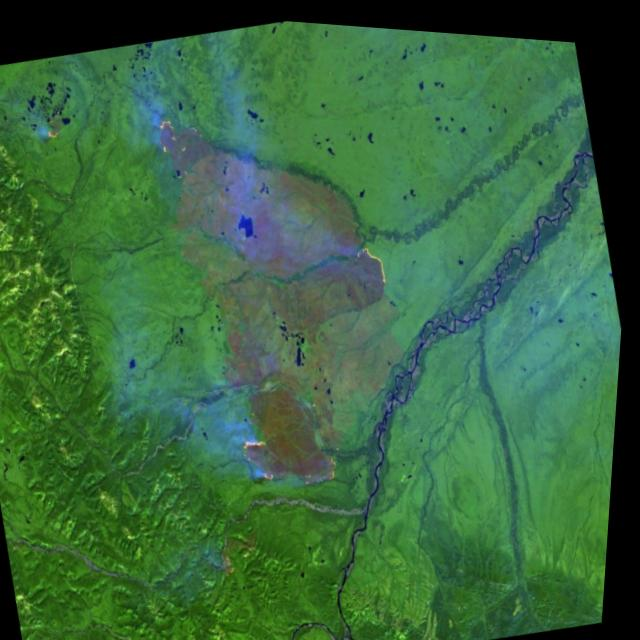fire: (236, 409, 353, 509), (144, 94, 218, 190), (345, 218, 404, 296), (38, 106, 71, 146)
